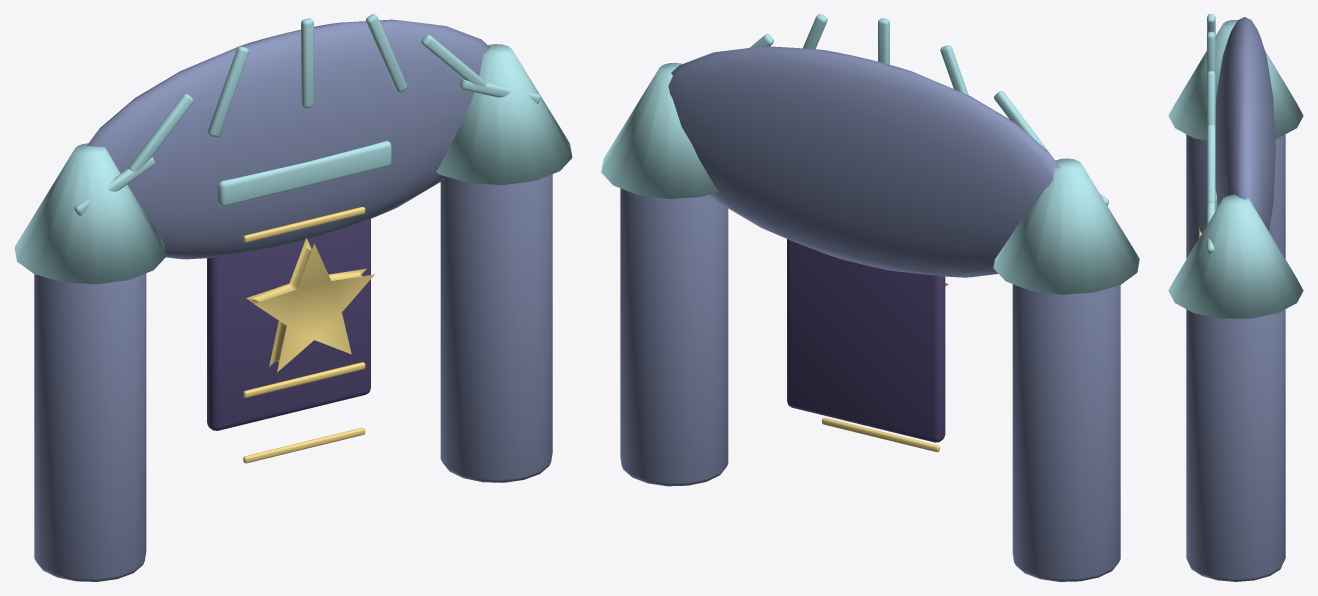
The model's file is dungeon_door.glb.
The picture shows the model from 3 angles, left to right: view 1: azimuth 30°, elevation 25°; view 2: azimuth 150°, elevation 25°; view 3: azimuth 270°, elevation 25°; orthographic projection. The views are drawn at different scales.
Visible parts, largest first — view 1: Tint_Surface.001, Trim_Detail.001, Fixed_Detail.001; view 2: Tint_Surface.001, Fixed_Detail.001, Trim_Detail.001; view 3: Tint_Surface.001, Trim_Detail.001.
Boxes of the visible parts, left/top/right/bottom form: Tint_Surface.001: left=34, top=19, right=552, bottom=581; Trim_Detail.001: left=14, top=14, right=572, bottom=284; Fixed_Detail.001: left=207, top=206, right=374, bottom=463; Tint_Surface.001: left=620, top=46, right=1120, bottom=581; Fixed_Detail.001: left=787, top=239, right=948, bottom=452; Trim_Detail.001: left=601, top=14, right=1139, bottom=294; Tint_Surface.001: left=1186, top=17, right=1285, bottom=581; Trim_Detail.001: left=1168, top=14, right=1303, bottom=318.
Bounding box in the file's own units: 13.71 × 12.27 × 3.4.
